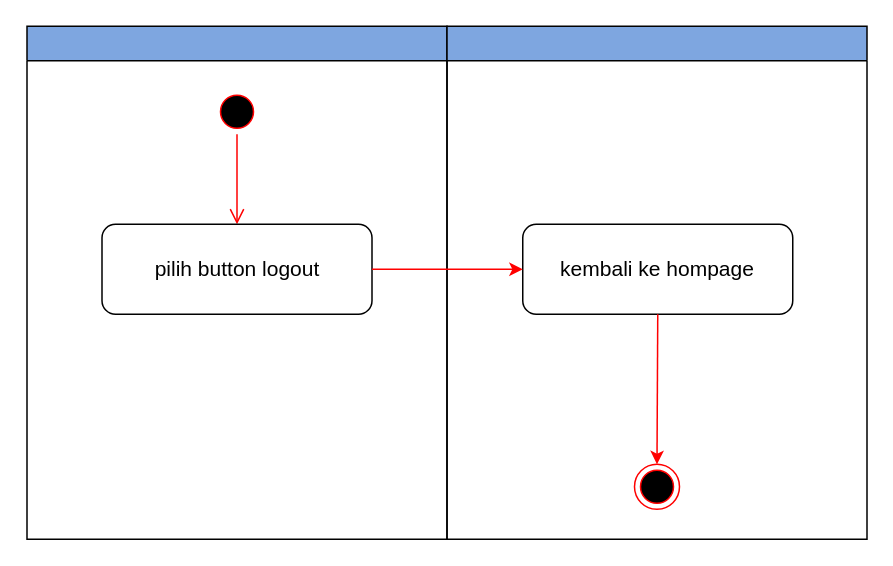
Some shapes in this 893 by 566 pixel diagram are drawn without their labels. The shapes that lost their labels are listed below. From the top down, each one's box as (x1, y1, x2, y2) in pixels, then its label:
(26, 25, 447, 539): Admin/Pegawai
(446, 25, 867, 539): Sistem
